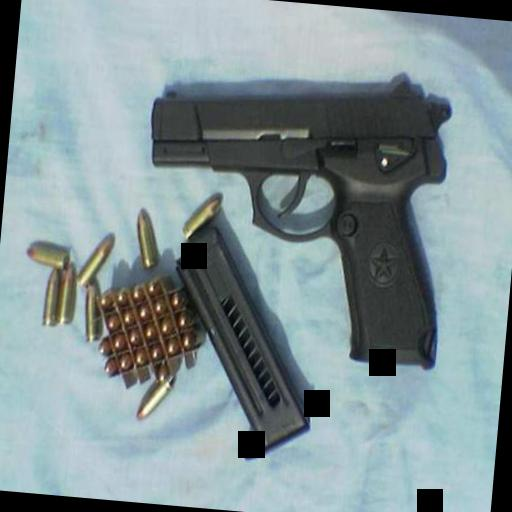Handgun: (129, 56, 458, 368)
